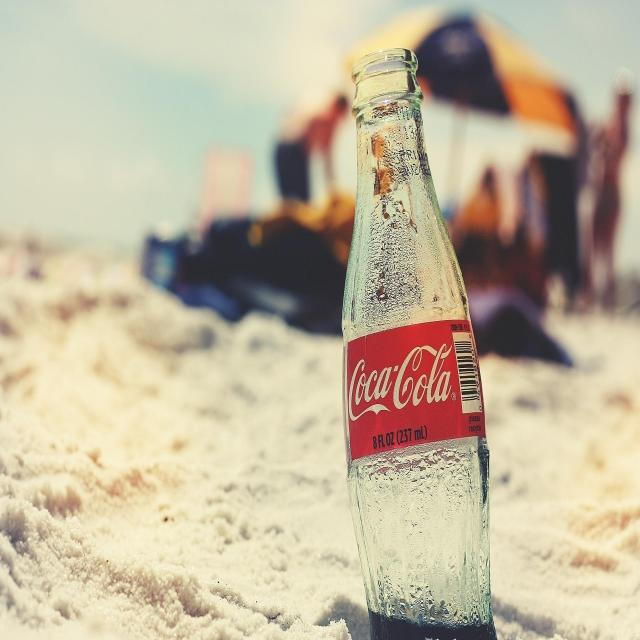bottle-glass: (338, 36, 503, 640)
